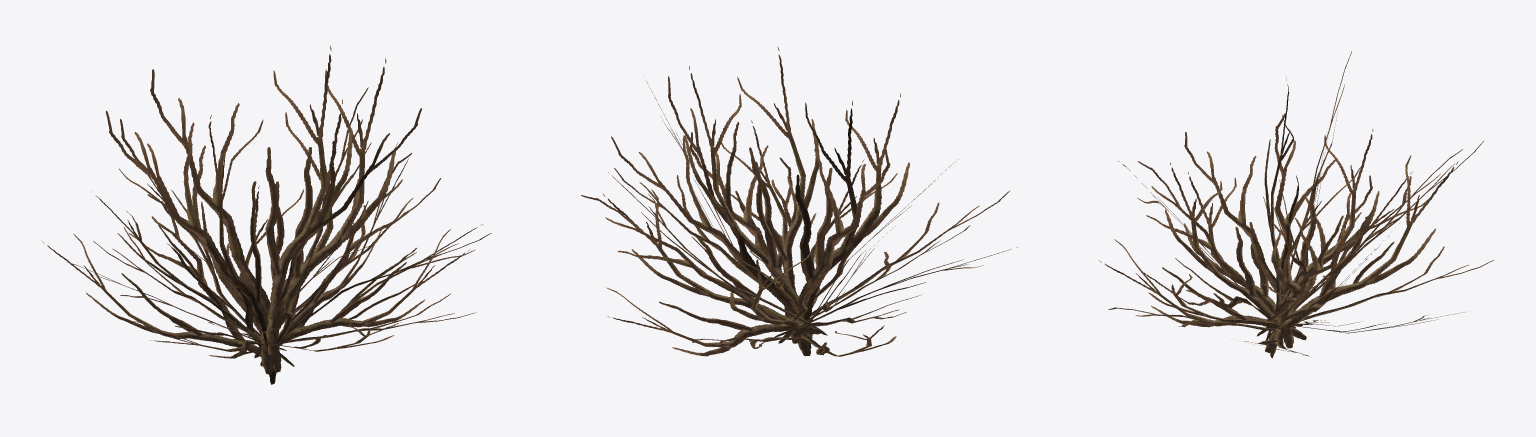
File: VegetationOasis006_lod2.glb
3 renders of one model, left to right at view 1: azimuth 30°, elevation 25°; view 2: azimuth 150°, elevation 25°; view 3: azimuth 270°, elevation 25°, orthographic. The views are drawn at different scales.
Parts seen in each view (by area): view 1: vegetation_oasis006_lod2; view 2: vegetation_oasis006_lod2; view 3: vegetation_oasis006_lod2.
Part boxes in pixels (box(x1,y1,x2,y2)): vegetation_oasis006_lod2: box(42, 45, 491, 384); vegetation_oasis006_lod2: box(581, 47, 1017, 356); vegetation_oasis006_lod2: box(1099, 51, 1493, 358).
Size of the model in its own units: 1.85 by 1.37 by 1.77.
1 material, 1 textured.
